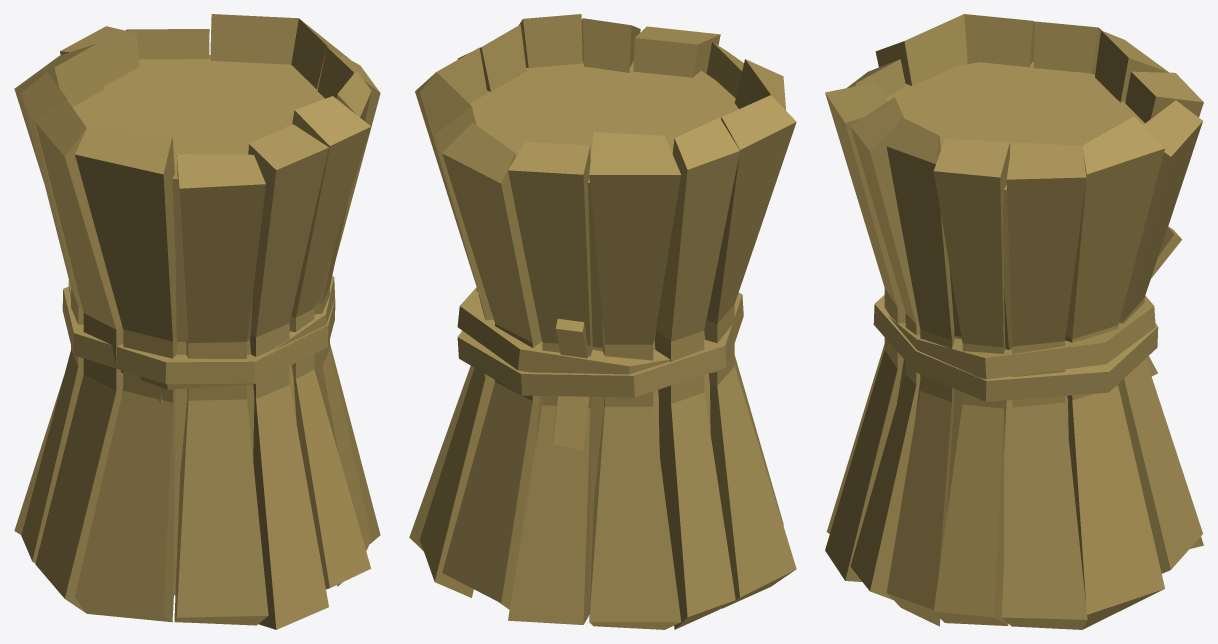
File: Hay.gltf
3 renders of one model, left to right at view 1: azimuth 30°, elevation 25°; view 2: azimuth 150°, elevation 25°; view 3: azimuth 270°, elevation 25°, orthographic.
Parts seen in each view (by area): view 1: Hay; view 2: Hay; view 3: Hay.
Part boxes in pixels (<box>): Hay: <box>14,14,380,629</box>; Hay: <box>409,14,796,629</box>; Hay: <box>825,14,1203,629</box>.
Bounding box in the file's own units: 0.121 × 0.1785 × 0.1249.
